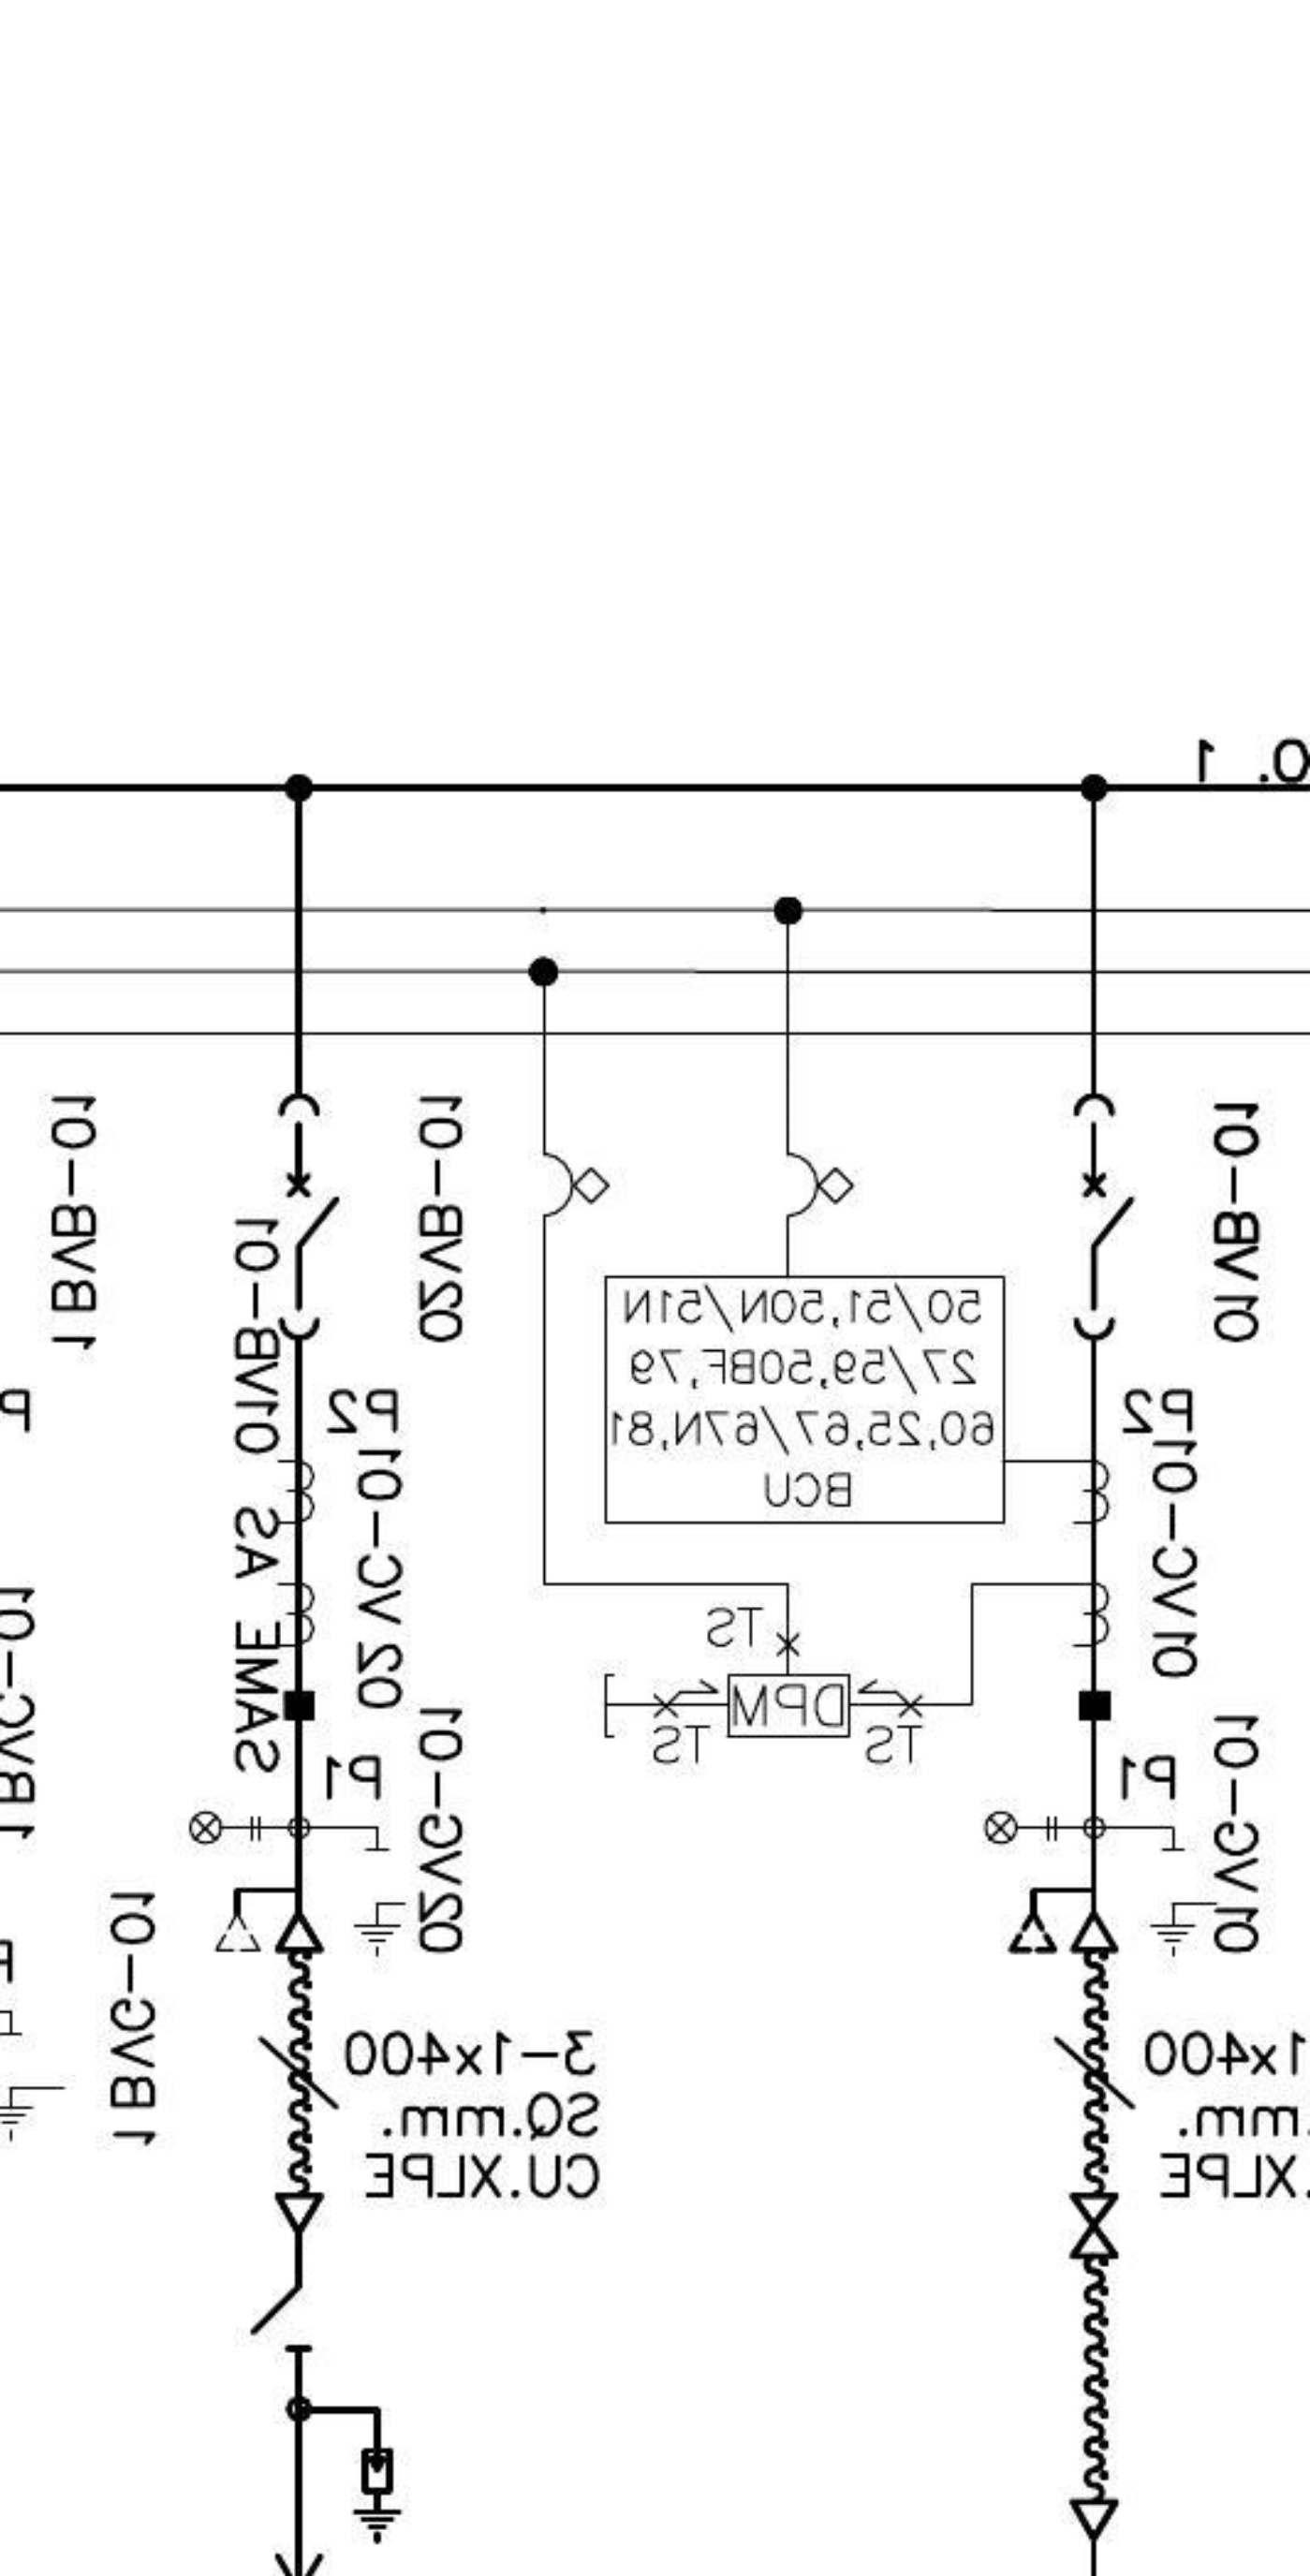22_breaker: (276, 1091, 343, 1343), (1071, 1093, 1136, 1343)
22_gs: (1146, 1844, 1218, 1958), (351, 1846, 411, 1958)
22_ll: (187, 1809, 262, 1848), (982, 1809, 1059, 1846)
DPM: (724, 1672, 854, 1741)
terminator_single: (271, 2190, 327, 2235), (1066, 2496, 1121, 2541)
terminator_splicing_kits: (1068, 2192, 1120, 2260)
terminator_w_future: (1006, 1884, 1121, 1956), (211, 1884, 326, 1956)
